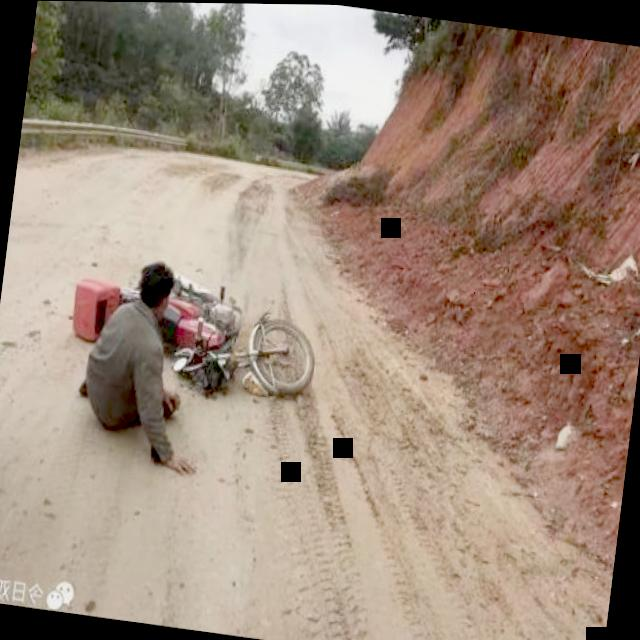Fall-Detected: (59, 236, 220, 493)
